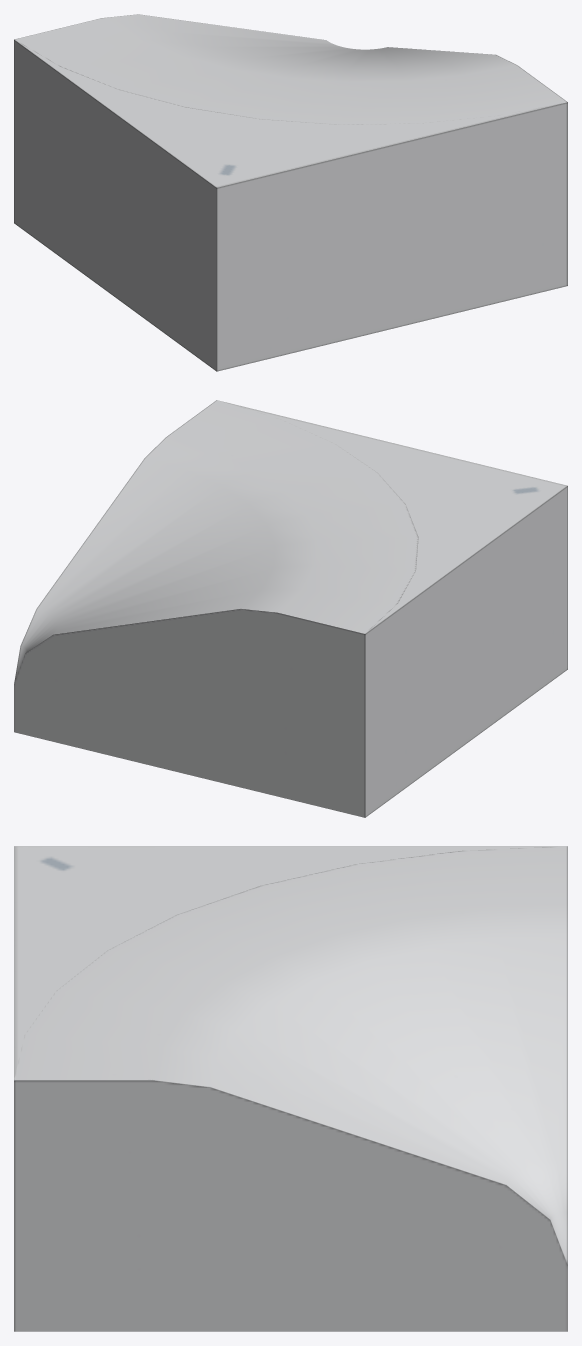
The model's file is Roof_Border_Corner_02.FBX.
3 views of the same model, one above another, from view 1: azimuth 30°, elevation 25°; view 2: azimuth 150°, elevation 25°; view 3: azimuth 270°, elevation 25° (orthographic). The views are drawn at different scales.
Visible parts, largest first — view 1: Roof_Border_Corner_02; view 2: Roof_Border_Corner_02; view 3: Roof_Border_Corner_02.
Boxes of the visible parts, <box> form: Roof_Border_Corner_02: <box>14,14,567,371</box>; Roof_Border_Corner_02: <box>14,400,567,817</box>; Roof_Border_Corner_02: <box>14,846,567,1331</box>.
Size of the model in its own units: 2 by 1 by 2.
